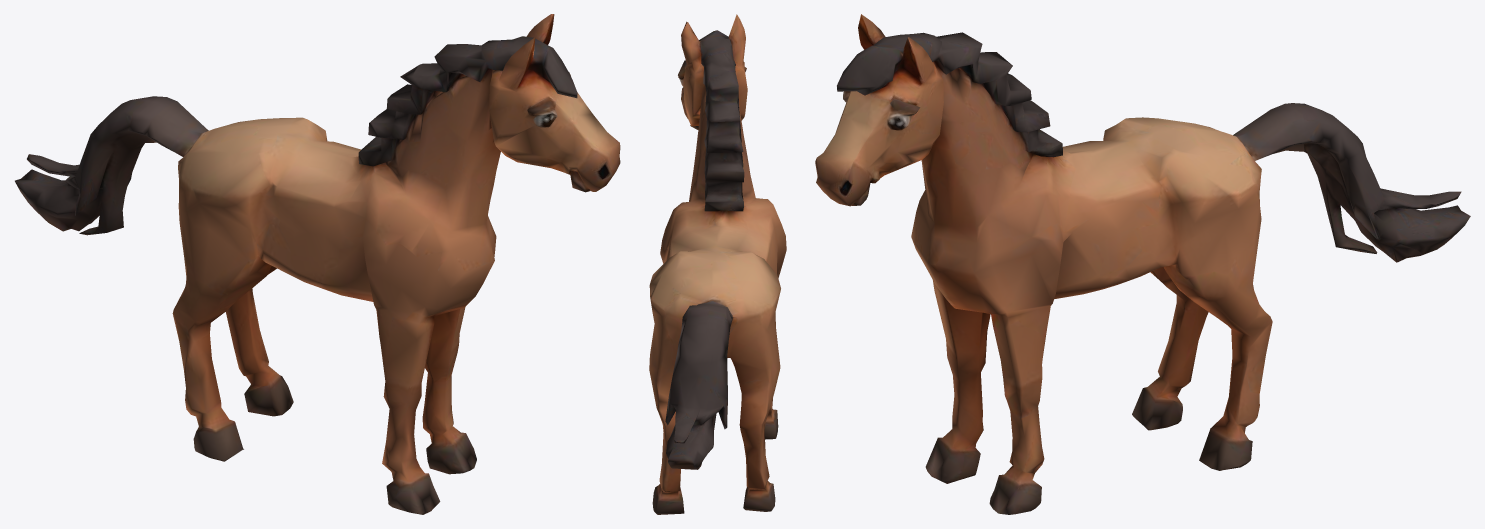
Rendered from mustang.glb.
3 views of the same model, side by side, from view 1: azimuth 30°, elevation 25°; view 2: azimuth 150°, elevation 25°; view 3: azimuth 270°, elevation 25° (orthographic). The views are drawn at different scales.
Visible parts, largest first — view 1: tripo_node_b989f0c0-6586-4897-8745-68131c714d9d; view 2: tripo_node_b989f0c0-6586-4897-8745-68131c714d9d; view 3: tripo_node_b989f0c0-6586-4897-8745-68131c714d9d.
Part boxes in pixels (x1=…): tripo_node_b989f0c0-6586-4897-8745-68131c714d9d: x1=15, y1=14, x2=620, y2=514; tripo_node_b989f0c0-6586-4897-8745-68131c714d9d: x1=649, y1=14, x2=786, y2=514; tripo_node_b989f0c0-6586-4897-8745-68131c714d9d: x1=815, y1=14, x2=1470, y2=514.
Size of the model in its own units: 0.563 by 0.838 by 1.
Materials: 1 (1 with a texture image).
